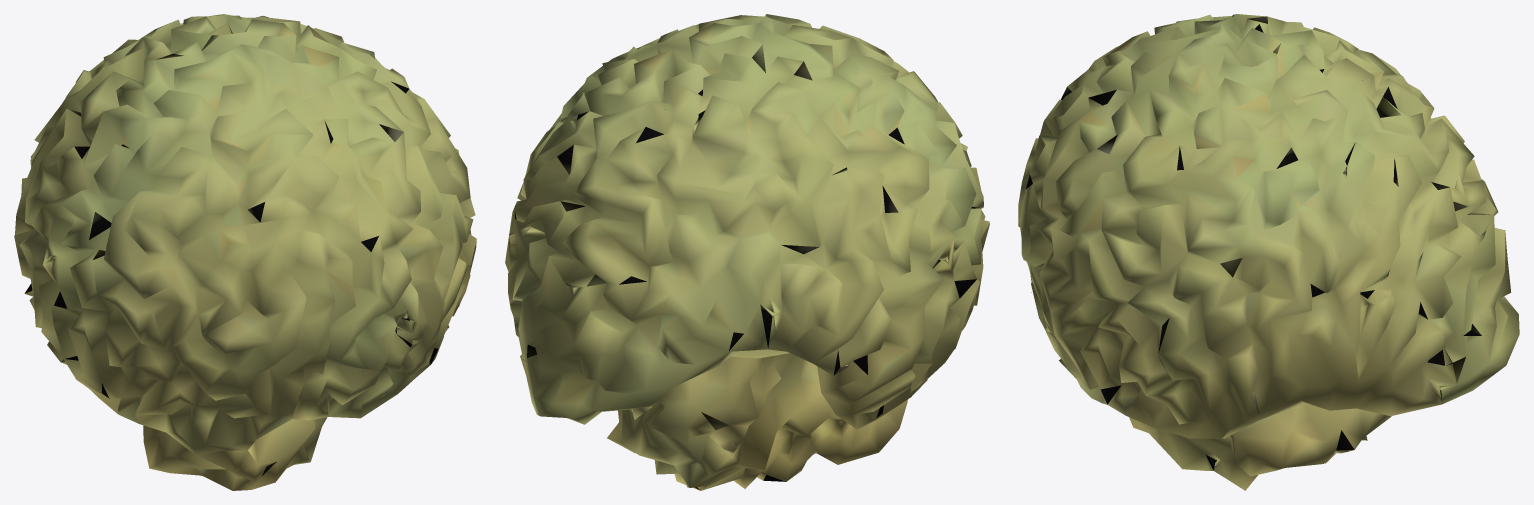
The model's file is diploria.glb.
3 renders of one model, left to right at view 1: azimuth 30°, elevation 25°; view 2: azimuth 150°, elevation 25°; view 3: azimuth 270°, elevation 25°, orthographic. The views are drawn at different scales.
Parts seen in each view (by area): view 1: diploria_near; view 2: diploria_near; view 3: diploria_near.
Boxes of the visible parts, <box> form: diploria_near: <box>14,14,476,490</box>; diploria_near: <box>505,14,989,490</box>; diploria_near: <box>1018,14,1519,490</box>.
Bounding box in the file's own units: 0.277 × 0.2802 × 0.3002.
Materials: 1 (1 with a texture image).
